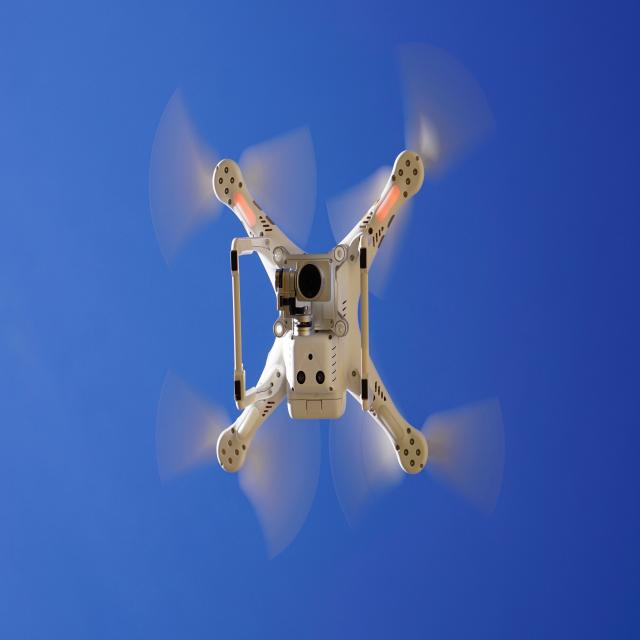Drone THREAT: (150, 85, 507, 525), (160, 80, 470, 498), (159, 94, 254, 230)
